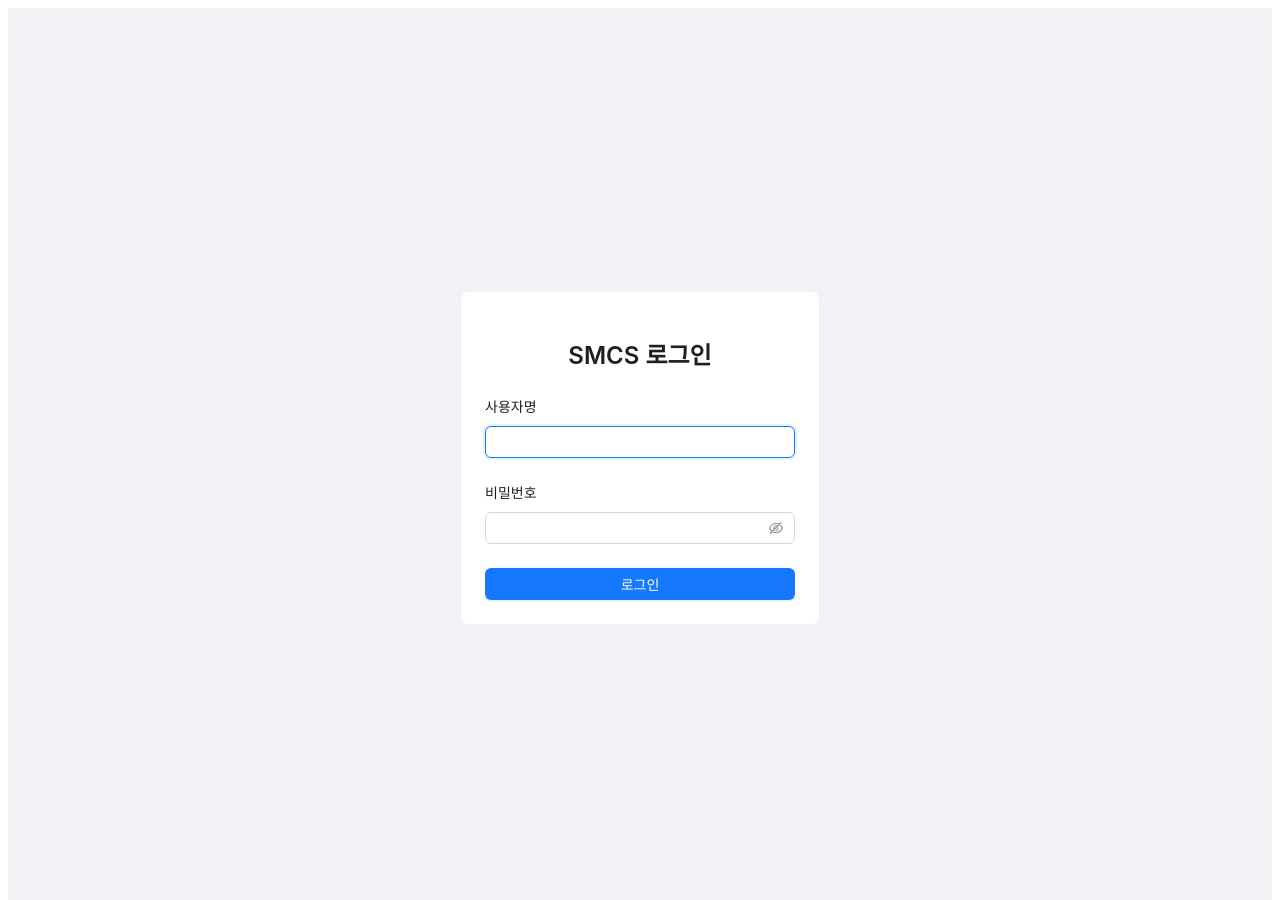
Test: LoginView › shows validation errors on empty submit
This screenshot has width=1280, height=900.
Click the button "로그인" at (640, 584), box [485,568,795,600]
(page scrolled)
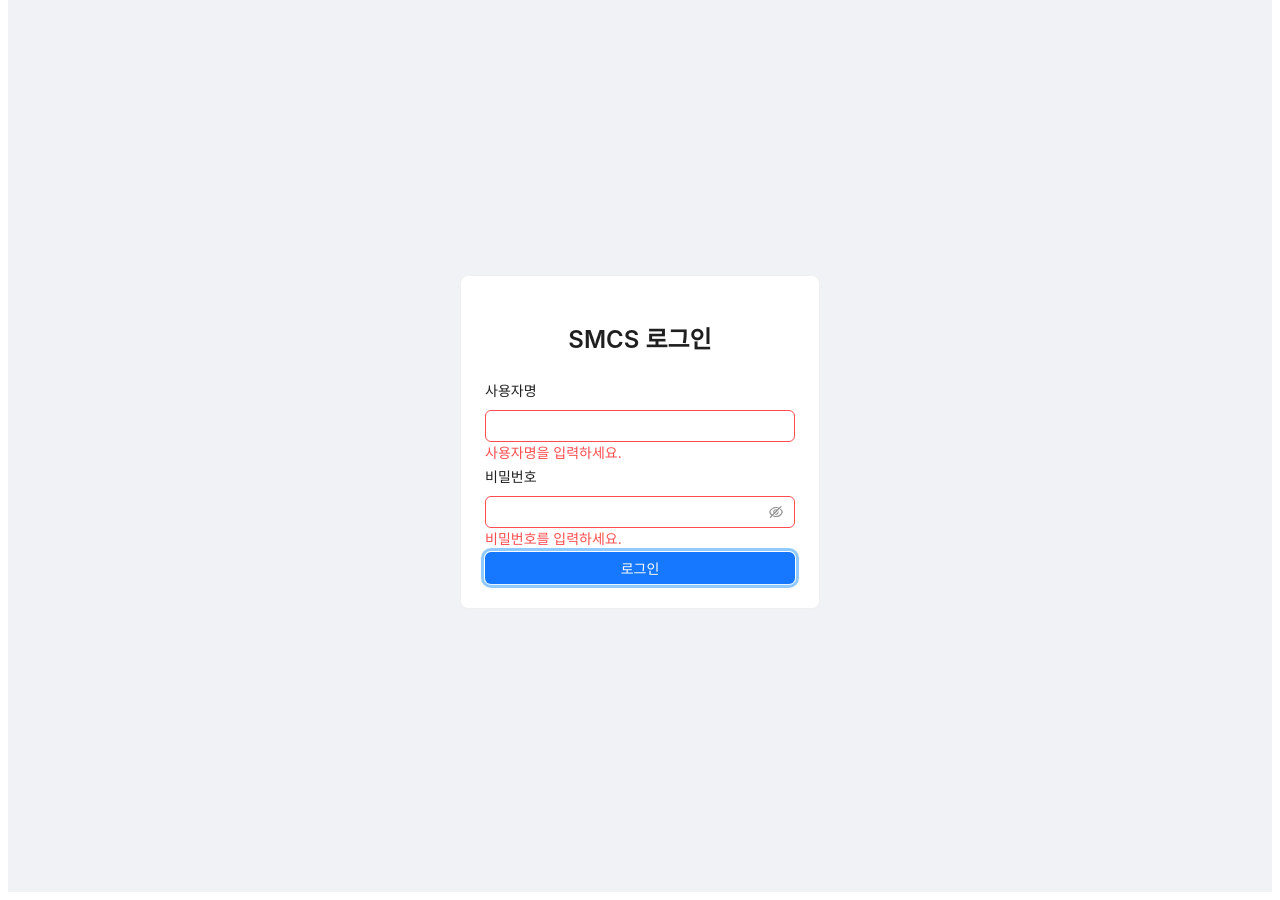
Now the text "사용자명을 입력하세요." is shown, box [485,444,622,461]
Now the text "비밀번호를 입력하세요." is shown, box [485,530,622,547]
